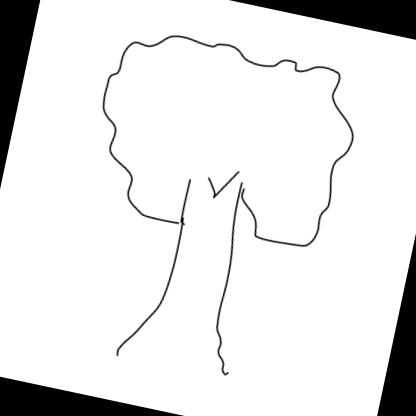branch_line: (182, 158, 246, 211)
crown_dizzy: (80, 21, 368, 256)
trunk_straight: (131, 233, 243, 353)
